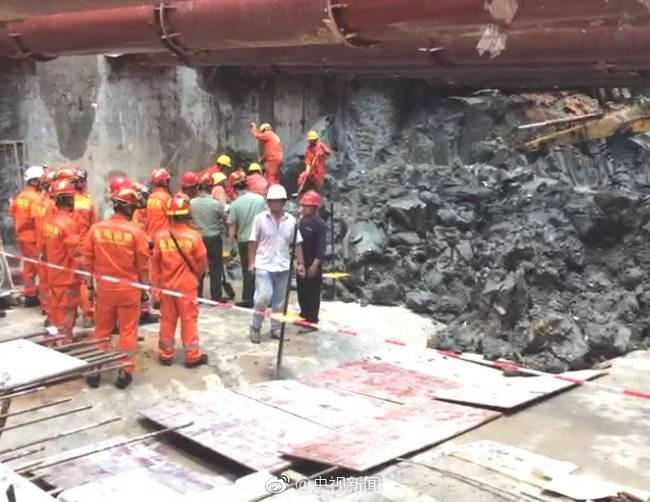helmet: (53, 180, 76, 199), (167, 197, 190, 216), (300, 191, 323, 210), (265, 183, 286, 202), (116, 189, 139, 206), (109, 176, 129, 192), (153, 168, 170, 185), (24, 166, 44, 180), (215, 172, 229, 186), (183, 172, 196, 187), (220, 154, 232, 169), (259, 121, 273, 133), (305, 131, 319, 143), (248, 163, 263, 173)
